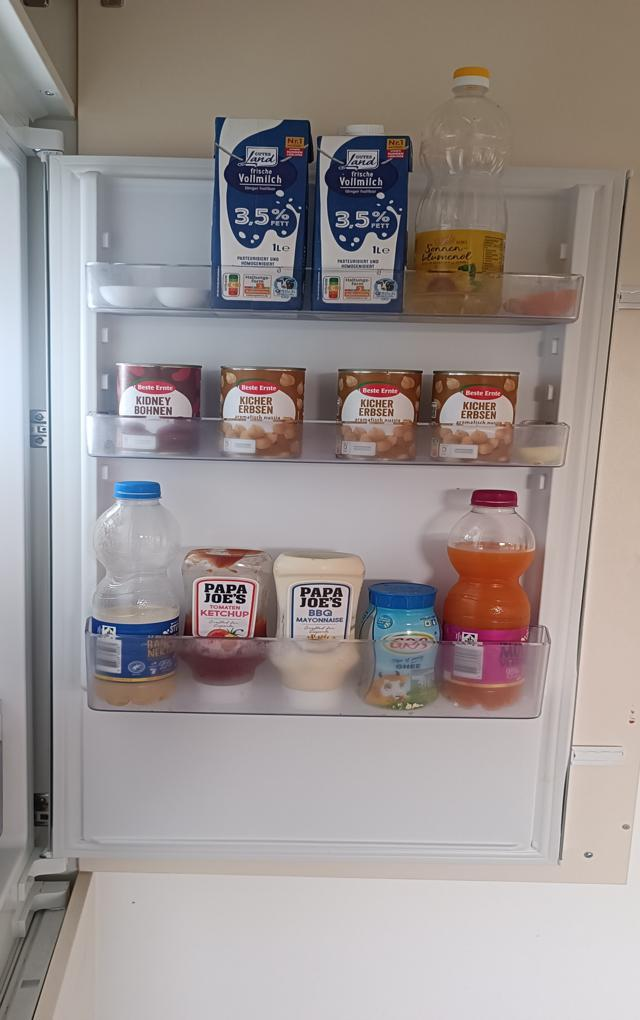bananajuice: (90, 477, 182, 710)
chickpeas: (220, 364, 306, 467), (333, 369, 421, 465), (430, 369, 518, 465)
ghee: (360, 580, 442, 708)
kidneybeans: (114, 362, 203, 456)
mayoniasie: (273, 549, 368, 715)
milk: (215, 114, 311, 312), (319, 123, 412, 313)
oil: (413, 66, 511, 320)
orangejuice: (439, 485, 541, 713)
tomatoketchup: (183, 549, 273, 707)
